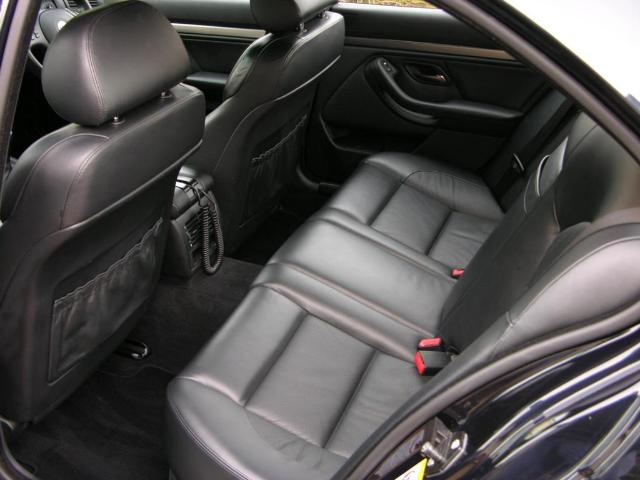Seatbelt: (492, 99, 574, 201)
